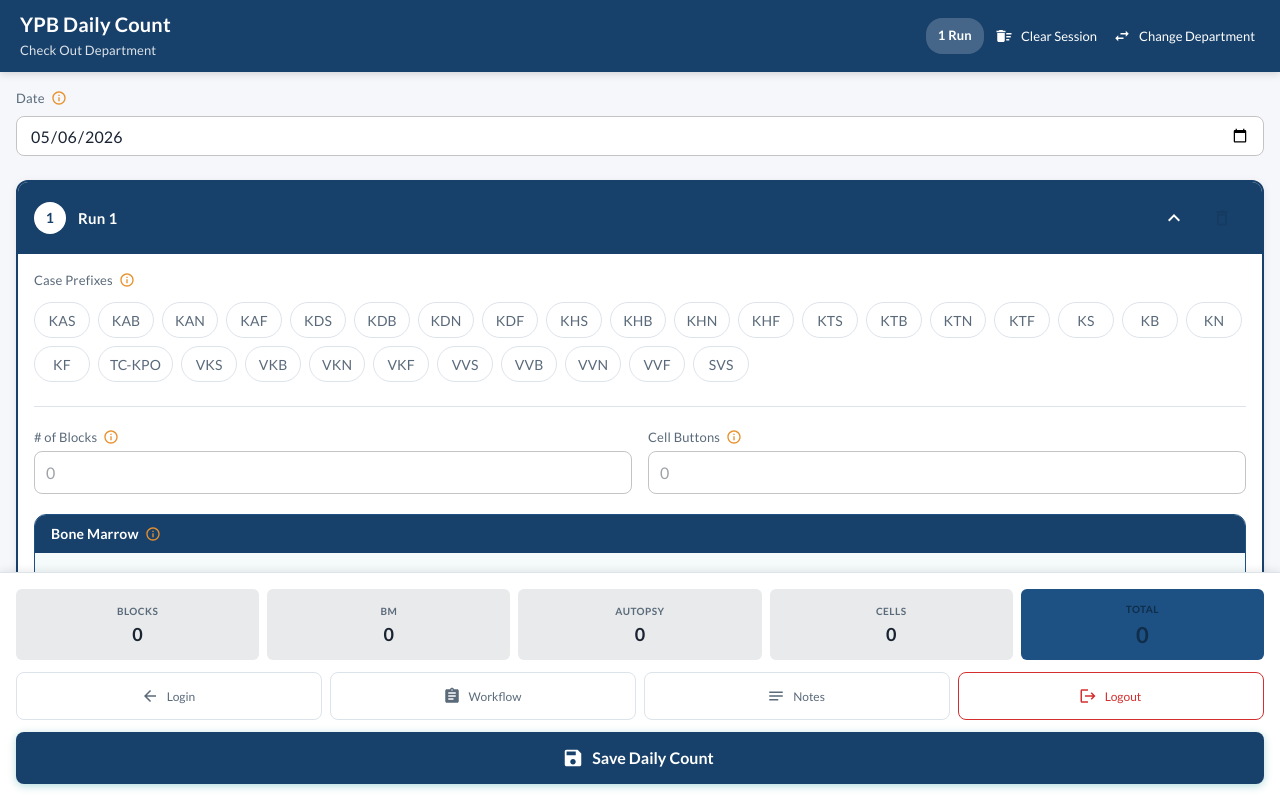
Test: Form Workflow Integration › should complete a typical 3-run day workflow
Click the button "KS": click(1086, 320) 1058,302 -> 1114,338
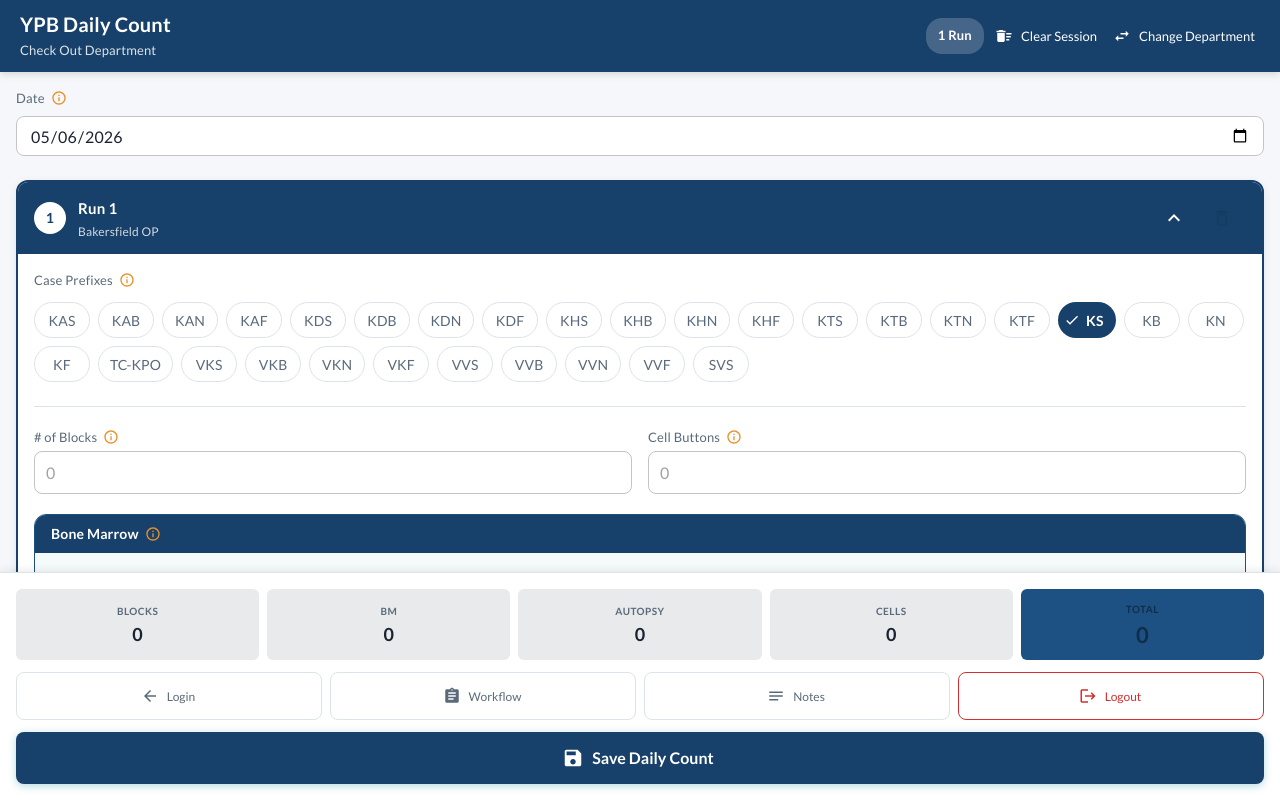
// Enter blocks (first blocks input is the main one)
In the field named "# of Blocks": (333, 473) 34,451 -> 632,494, type "45"
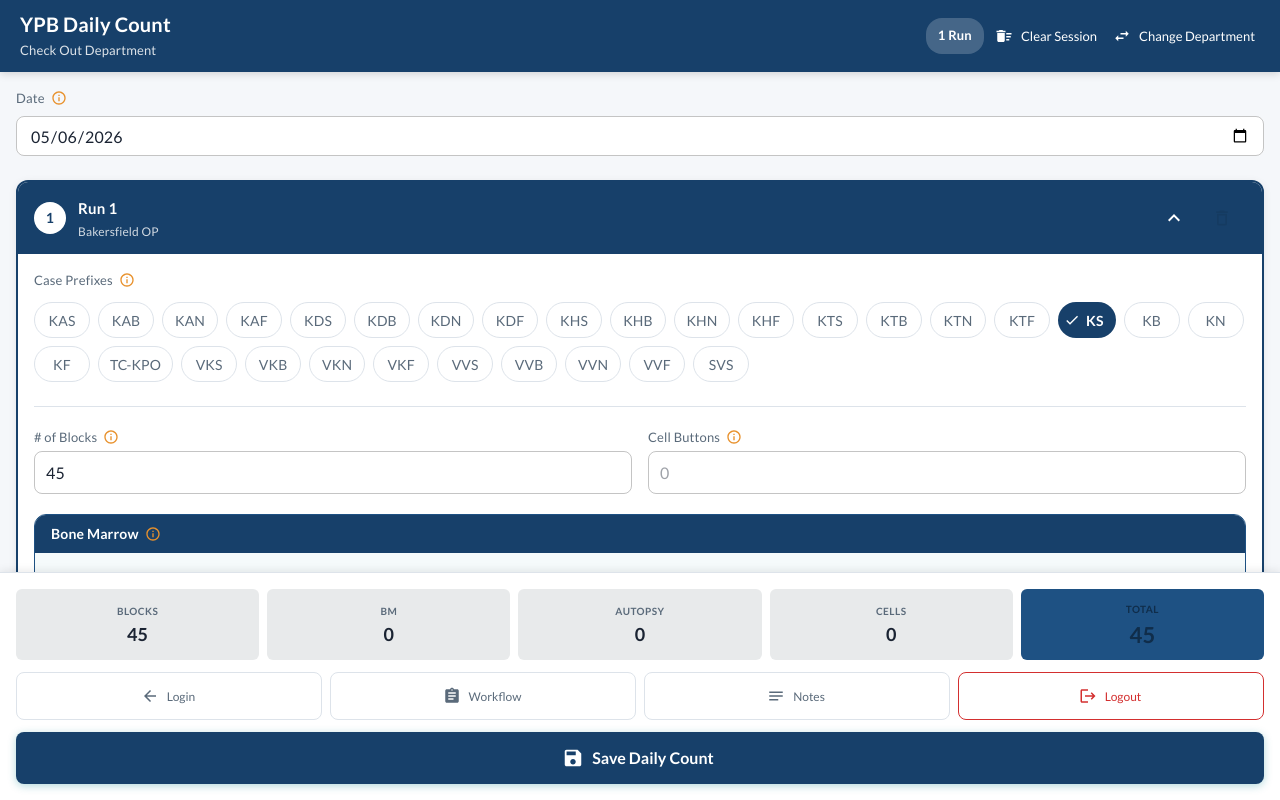
// Enter cell buttons
In the field named "Cell Buttons": (947, 473) 648,451 -> 1246,494, type "5"
(page scrolled)
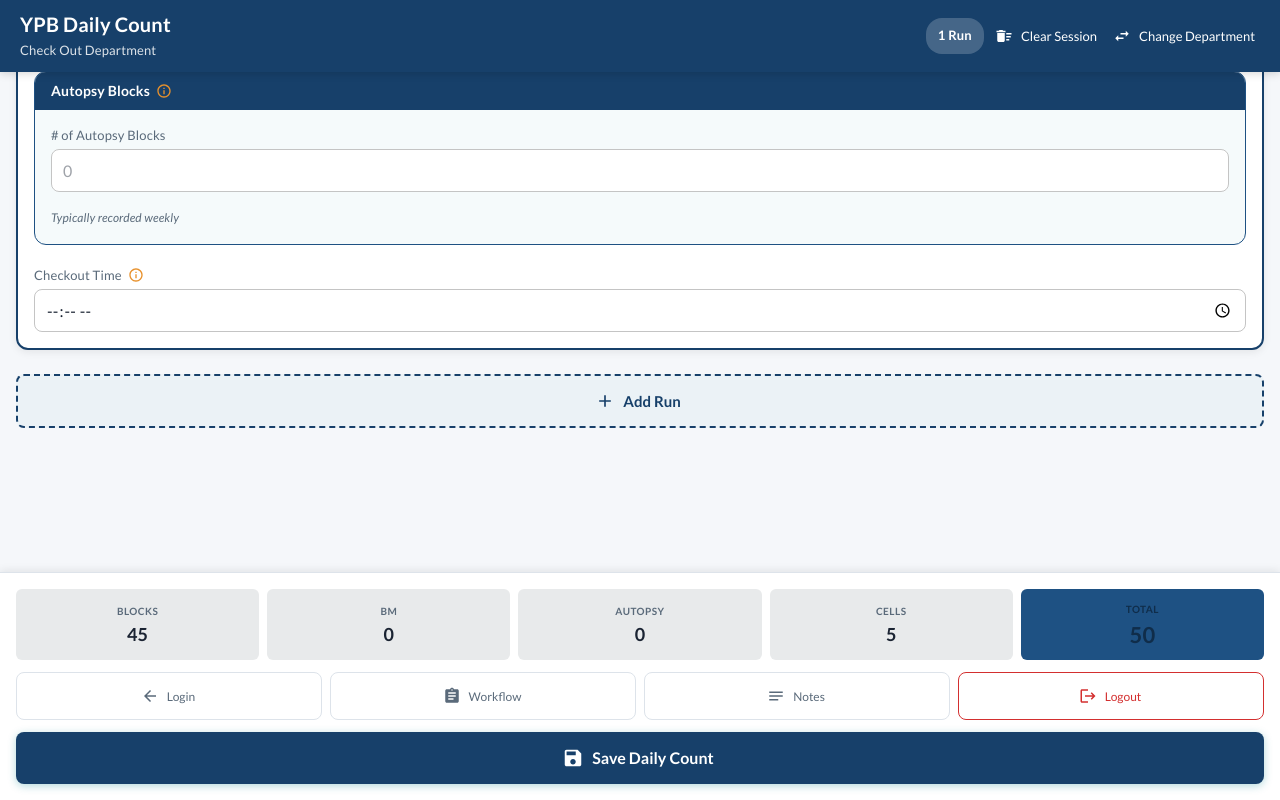
// Click Add Run (verify Run 1 collapses)
Click the button "Add Run": click(640, 401) 16,374 -> 1264,428
(page scrolled)
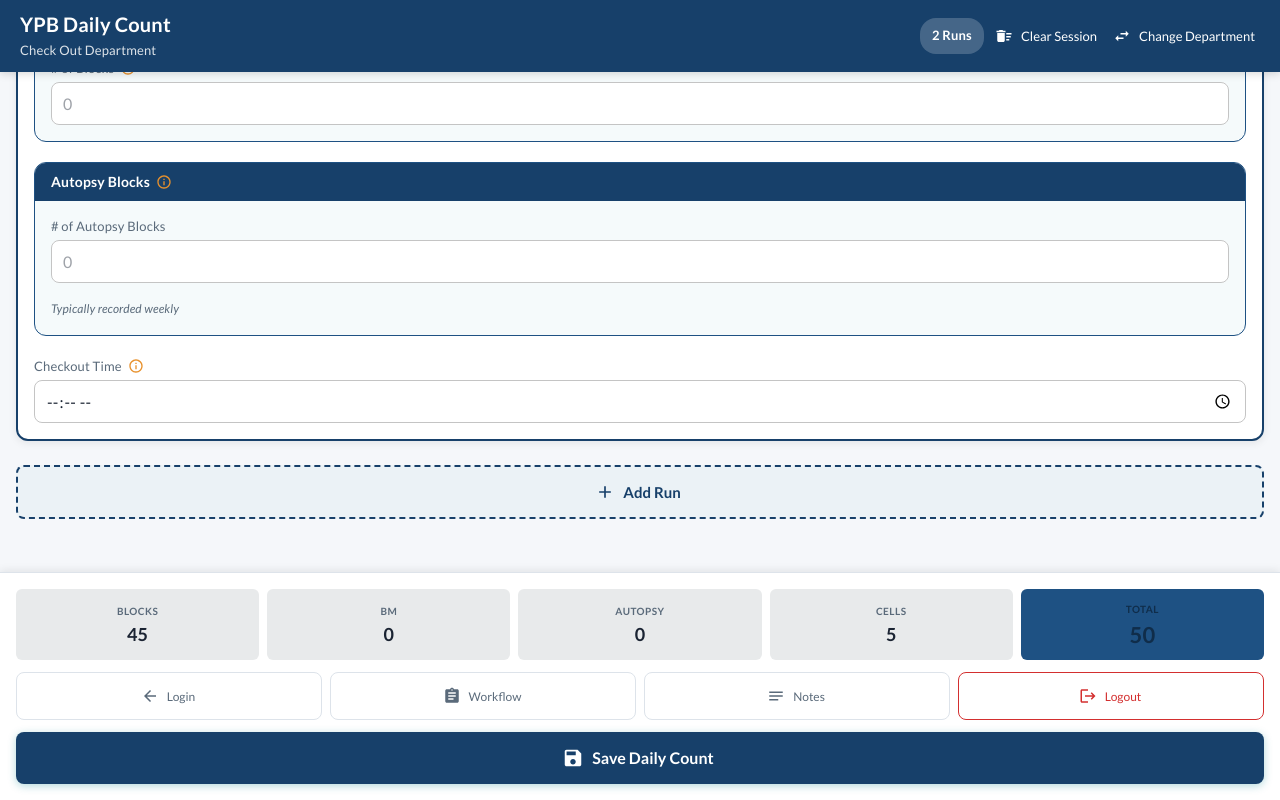
Now the text "2 Runs" is shown, box 932,28 -> 972,44
// Click Save
Click the button "Save Daily Count": click(640, 758) 16,732 -> 1264,784
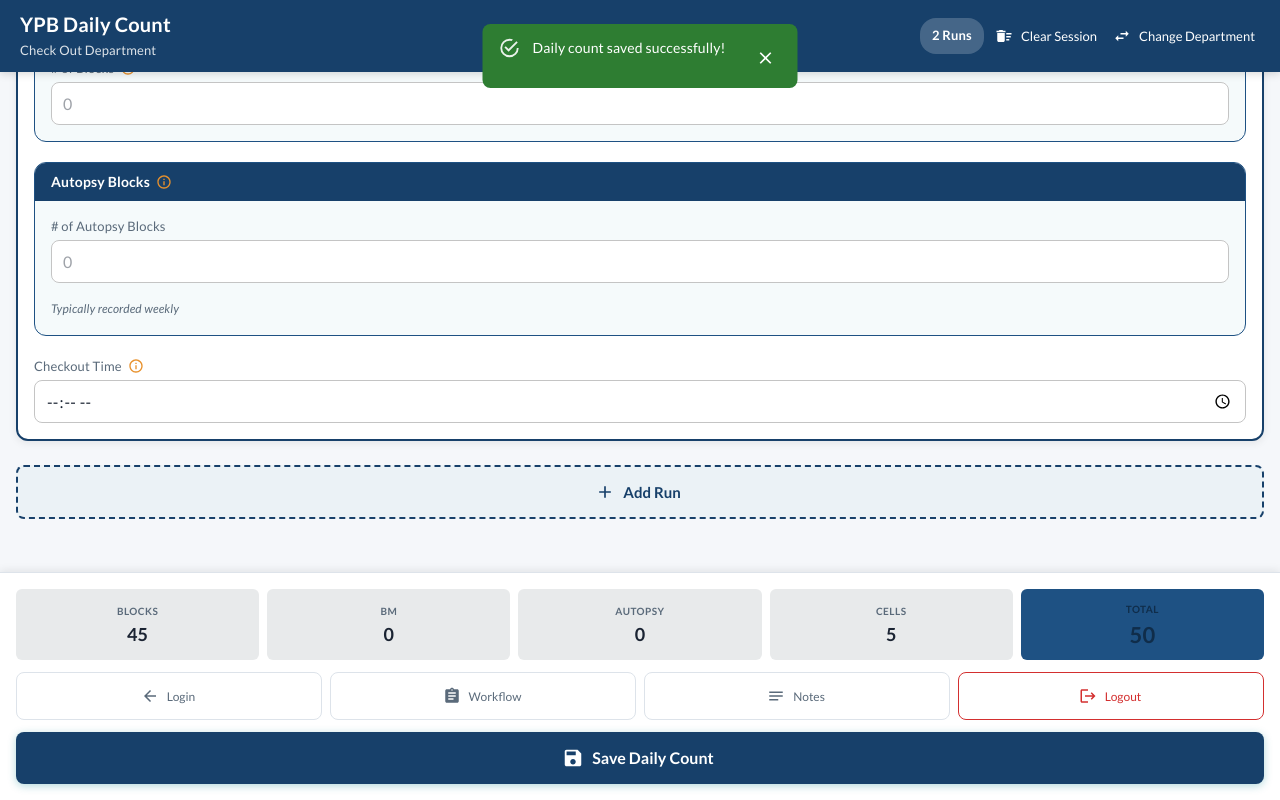
Now the text "Daily count saved successfully!" is shown, box 532,39 -> 726,56
